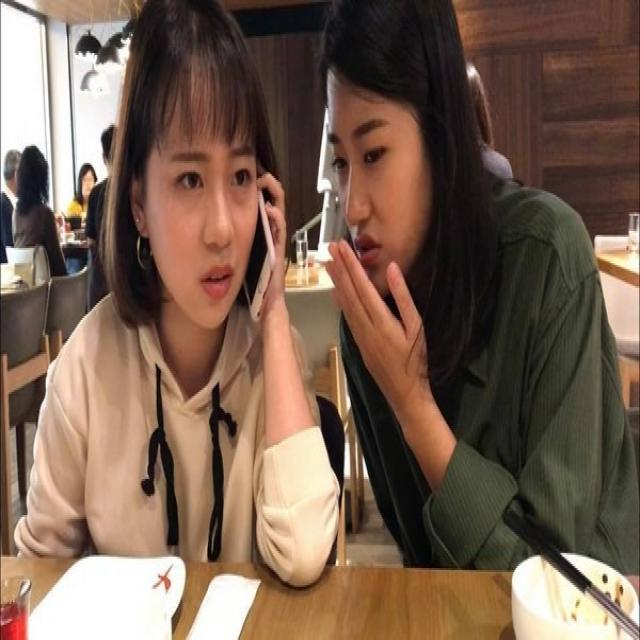phone: (224, 114, 292, 352)
